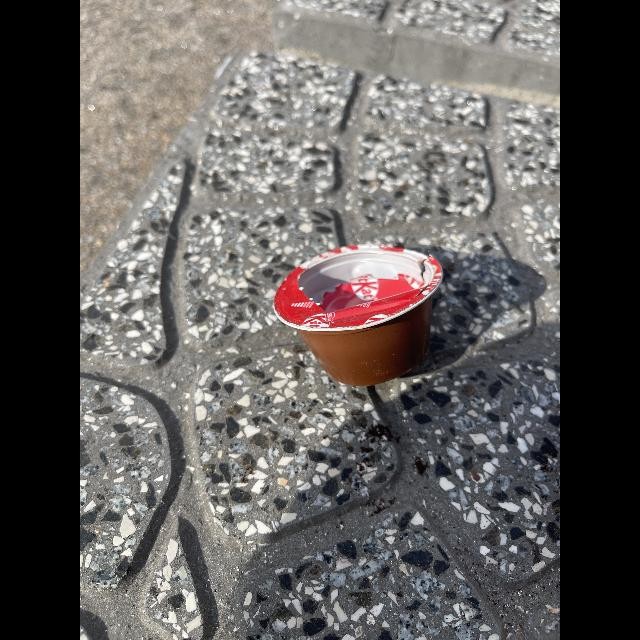damaged_capsule: (269, 235, 469, 398)
